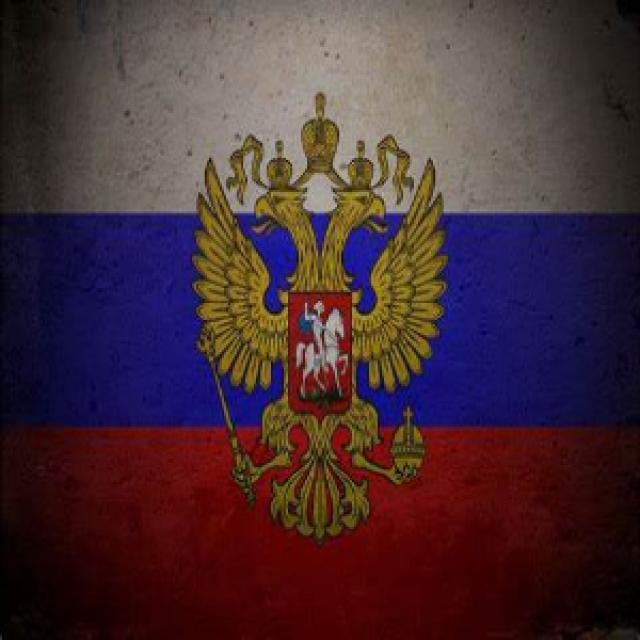russia: (10, 7, 640, 640)
